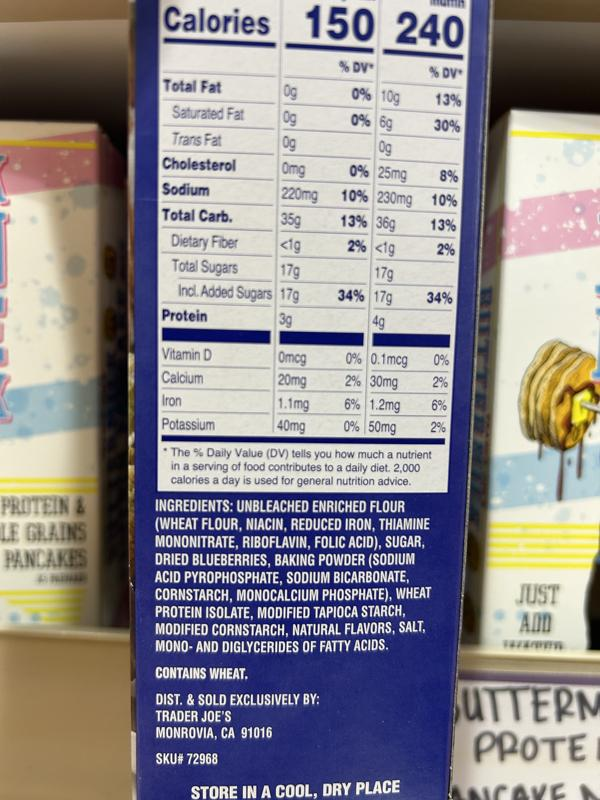ingredients: (151, 496, 434, 654)
